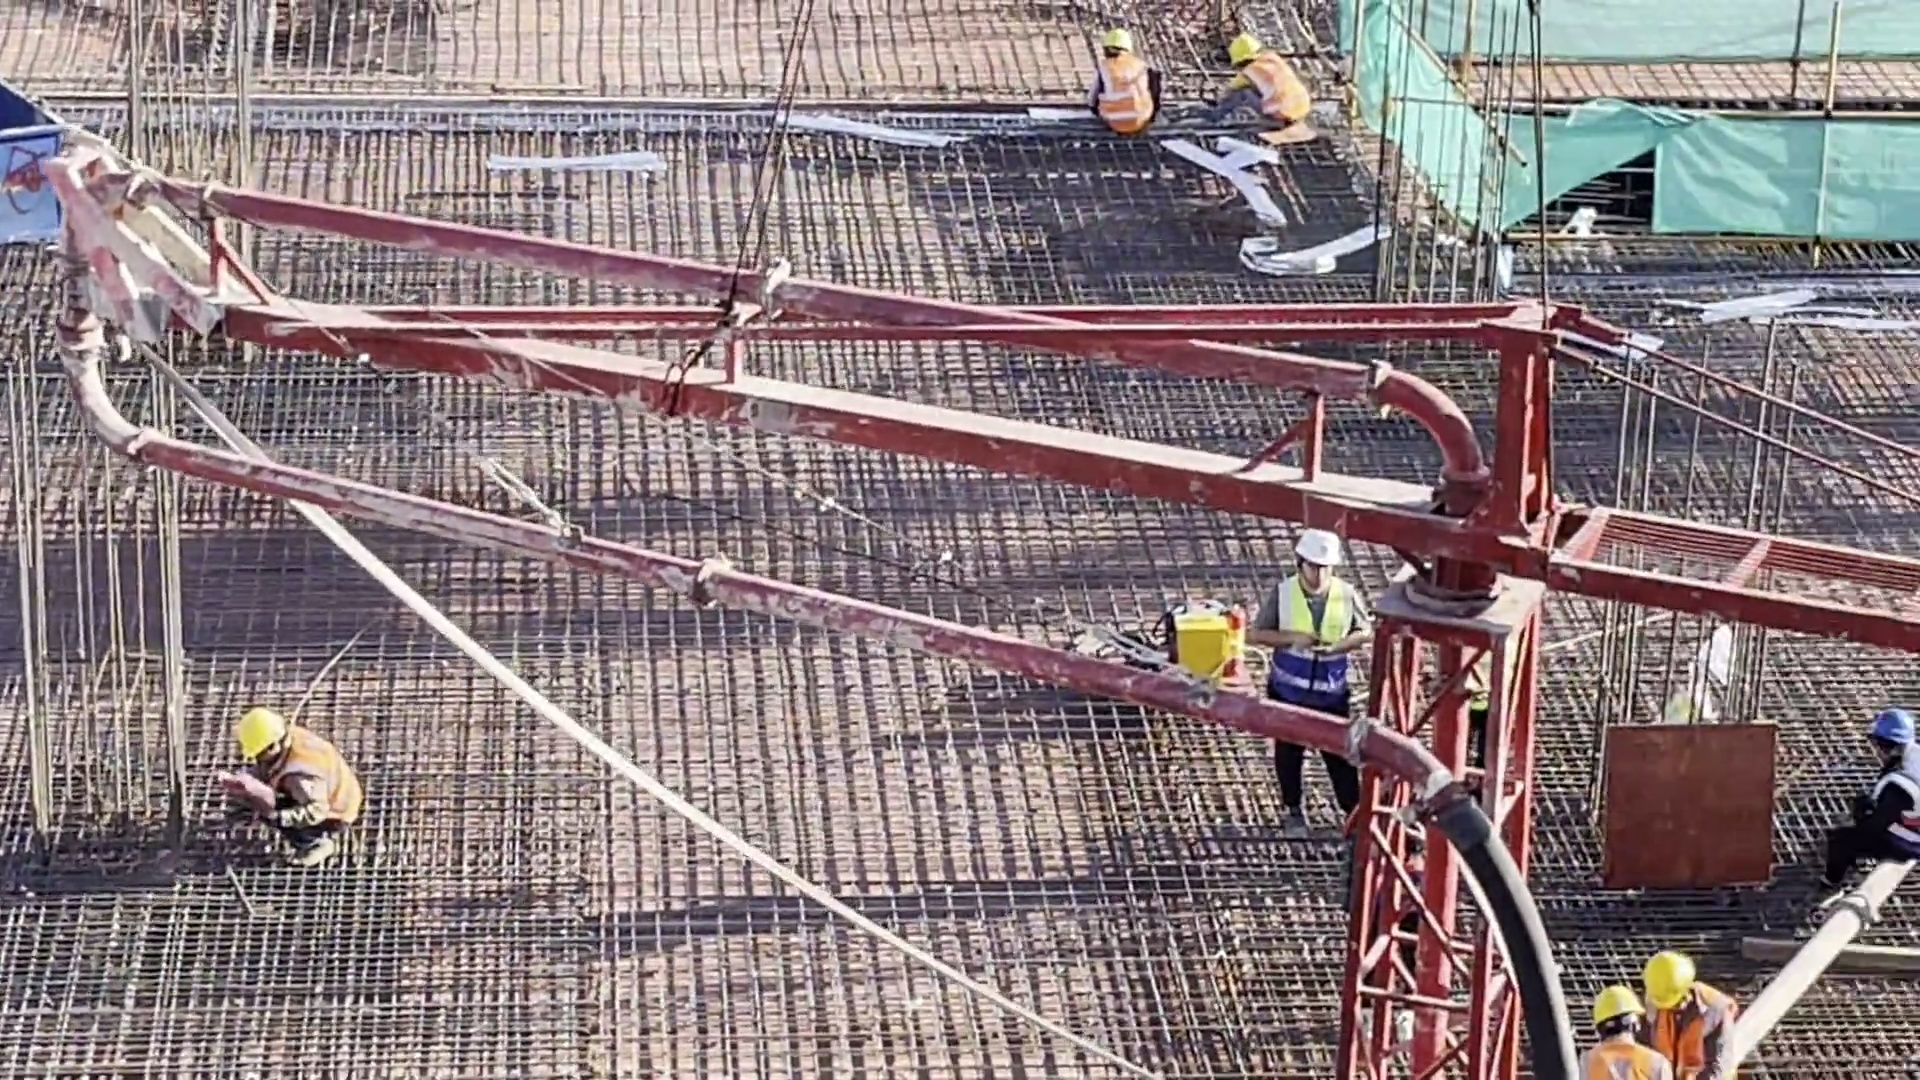helmet: (1650, 951, 1697, 1008), (1594, 981, 1643, 1021), (232, 715, 284, 751), (1297, 531, 1339, 571), (1871, 709, 1916, 744), (1234, 33, 1275, 67), (1107, 33, 1142, 58)
person: (1256, 526, 1370, 824), (212, 704, 369, 872), (1822, 700, 1920, 890), (1621, 939, 1731, 1080), (1199, 31, 1314, 135), (1578, 979, 1671, 1080), (1086, 30, 1159, 142)
vest: (1276, 583, 1357, 702), (269, 730, 357, 836), (1655, 998, 1734, 1077), (1101, 62, 1162, 123), (1249, 57, 1307, 113), (1593, 1046, 1652, 1080)
